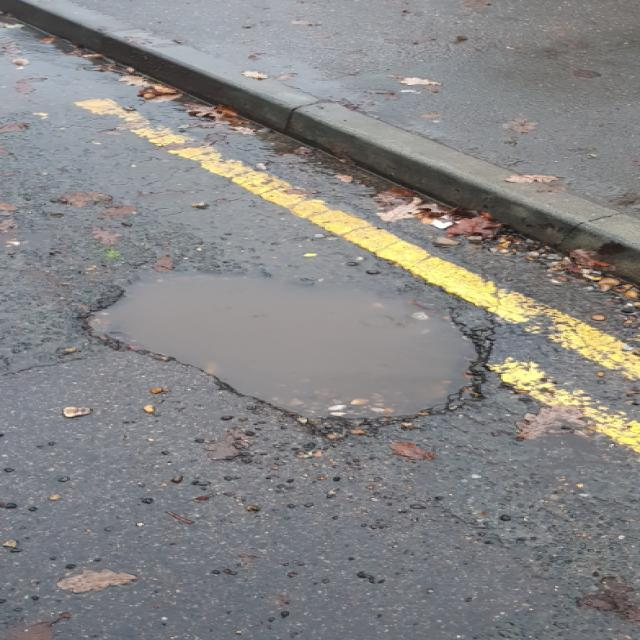pothole: (63, 252, 504, 442)
